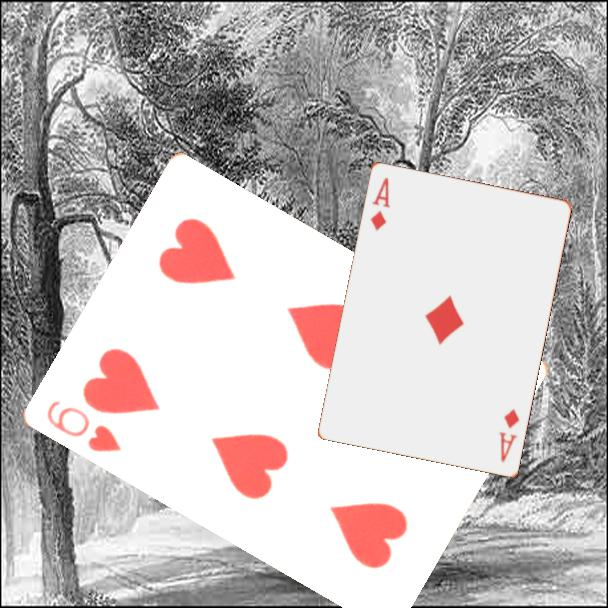d01: (366, 173, 393, 234), (495, 405, 522, 465)
h06: (43, 396, 125, 455)
